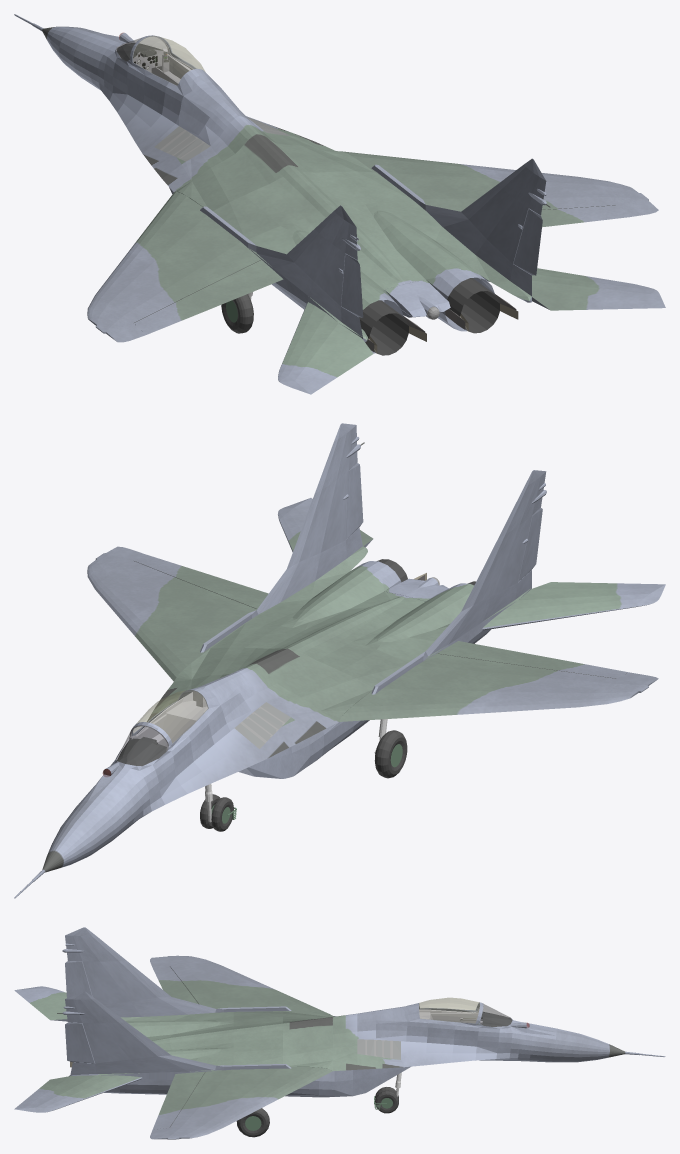
File: mig29.glb
3 renders of one model, top to bottom at view 1: azimuth 30°, elevation 25°; view 2: azimuth 150°, elevation 25°; view 3: azimuth 270°, elevation 25°, orthographic. The views are drawn at different scales.
Parts seen in each view (by area): view 1: airframe, elevator_l, elevator_r, canopy, flap_l, speedbrake_u, rudder_r, aileron_l, aileron_r, rudder_l, gear_wheel_L; view 2: airframe, elevator_l, canopy, flap_l, flap_r, gear_wheel_L, elevator_r, rudder_r, gear_nosewheels, speedbrake_u, rudder_l, aileron_l (+1 smaller); view 3: airframe, elevator_r, canopy, elevator_l, rudder_r, flap_r, rudder_l, gear_wheel_R, gear_nosewheels, aileron_r, aileron_l, flap_l.
Boxes of the visible parts, x1,y1,x2,y2 form: airframe: (14,14,658,355); elevator_l: (278,302,373,394); elevator_r: (532,268,665,310); canopy: (116,36,205,85); flap_l: (187,260,283,311); speedbrake_u: (384,279,450,316); rudder_r: (513,208,542,275); aileron_l: (134,296,203,334); aileron_r: (542,205,628,225); rudder_l: (341,253,363,317); gear_wheel_L: (221,294,253,333); airframe: (14,423,658,898); elevator_l: (482,582,665,630); canopy: (116,690,208,765); flap_l: (437,641,557,668); flap_r: (187,573,268,608); gear_wheel_L: (374,730,407,778); elevator_r: (278,498,373,552); rudder_r: (346,463,363,539); gear_nosewheels: (200,794,233,831); speedbrake_u: (384,577,448,601); rudder_l: (518,508,542,581); aileron_l: (541,659,628,678); airframe: (57,927,665,1139); elevator_r: (14,1075,142,1112); canopy: (419,997,511,1026); elevator_l: (14,986,67,1021); rudder_r: (65,1022,94,1063); flap_r: (162,1071,205,1106); rudder_l: (65,961,92,997); gear_wheel_R: (236,1108,269,1137); gear_nosewheels: (375,1087,398,1113); aileron_r: (152,1104,184,1129); aileron_l: (153,966,184,987); flap_l: (162,985,198,1003).
Size of the model in its own units: 11.45 by 4.42 by 17.24.
70 materials, 32 textured.
